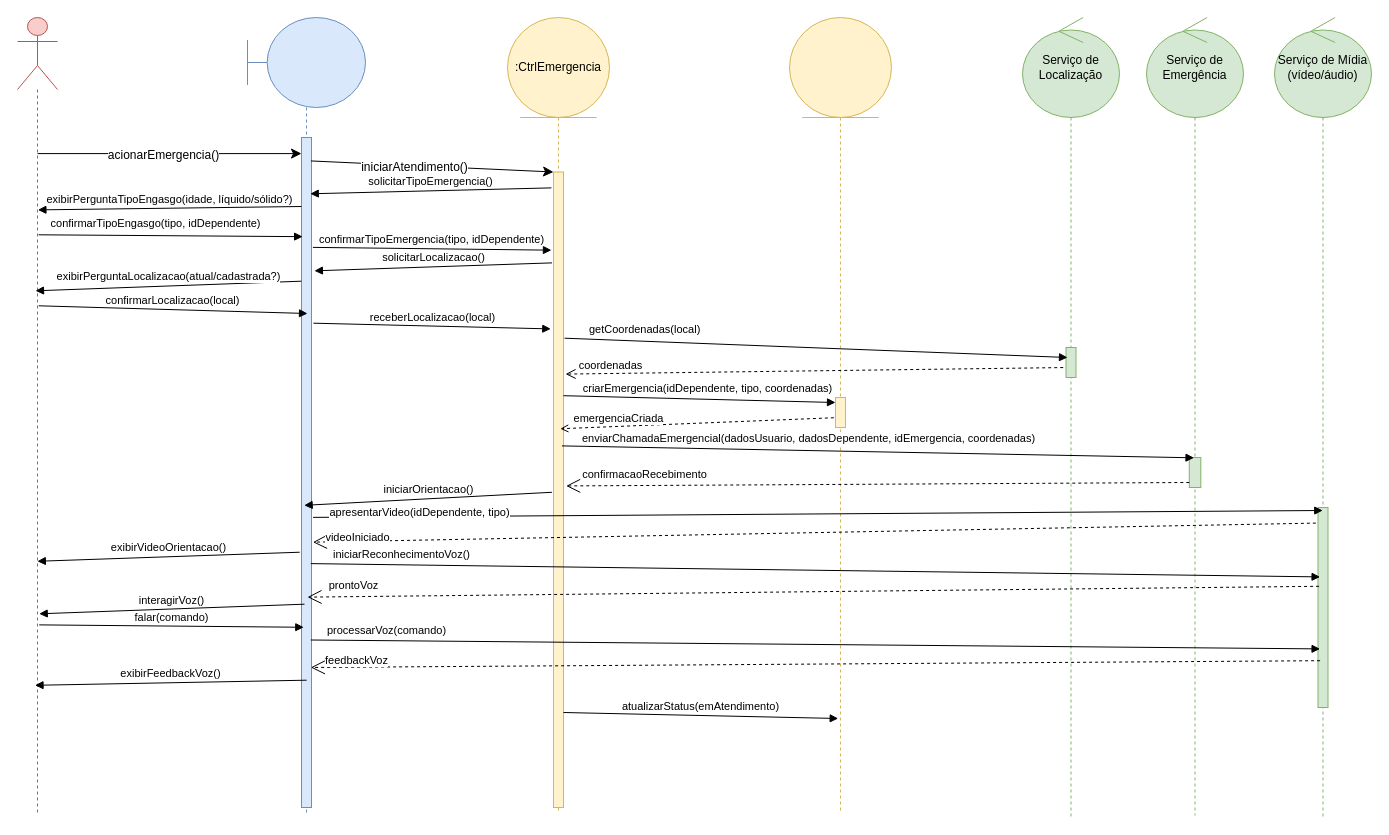
This 1389x835 diagram has some shape labels left out. Here are the shapes that lost their labels. From the top down, the box of each, then its label:
(246, 16, 366, 812): App SOS Engasgo
(788, 16, 892, 812): :Emergencia
